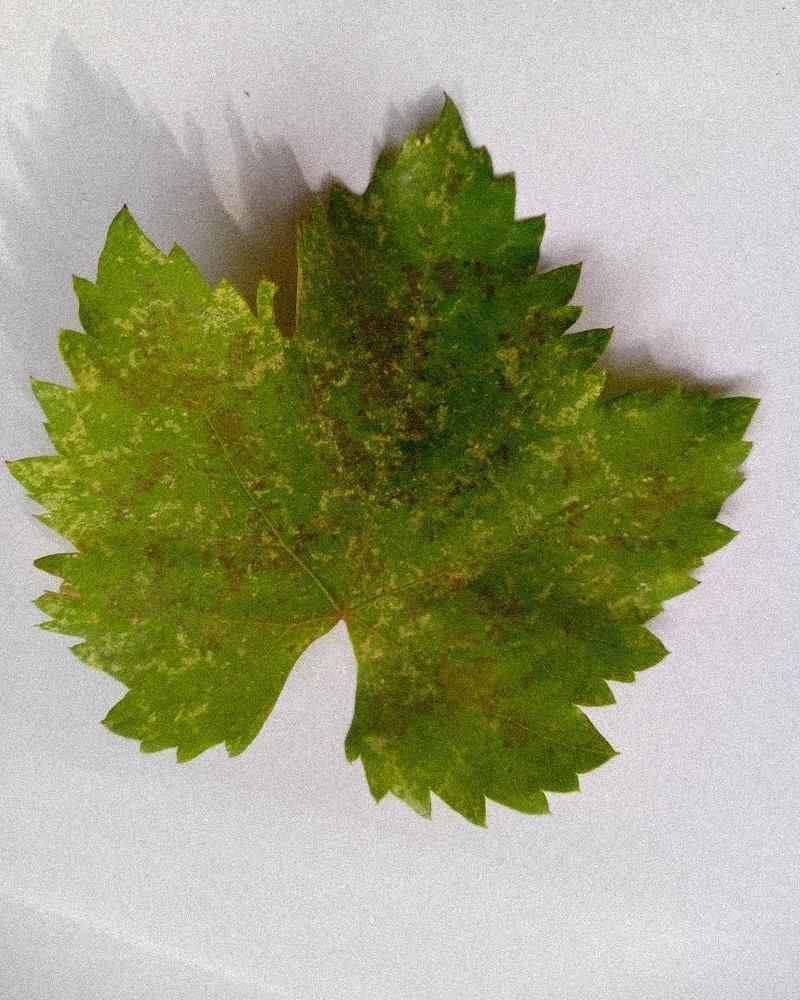Powdery-Mildew: (37, 424, 148, 535), (572, 439, 683, 550), (194, 303, 303, 404), (496, 338, 593, 438)
